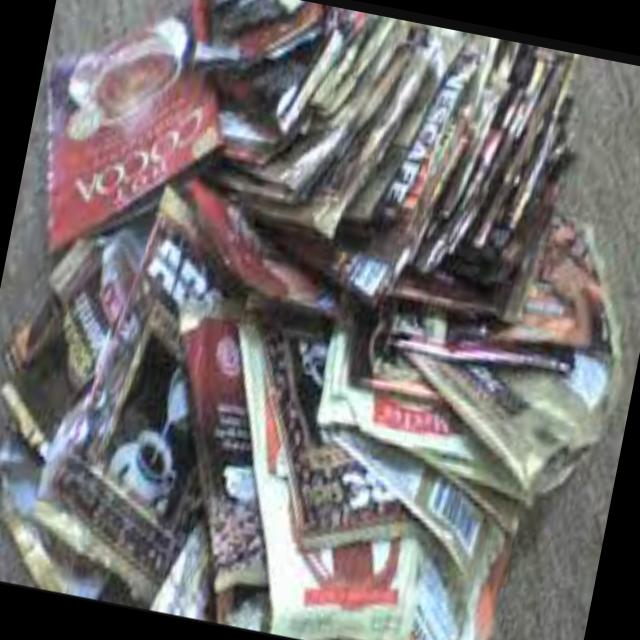KemasanPlastik: (133, 266, 611, 640), (150, 0, 640, 330), (15, 0, 247, 283)
